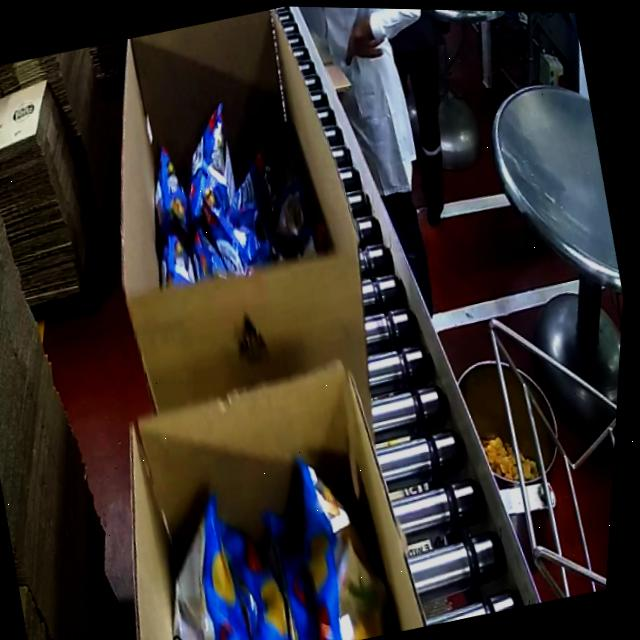PAPRIKA: (137, 430, 404, 640), (128, 92, 330, 296)
